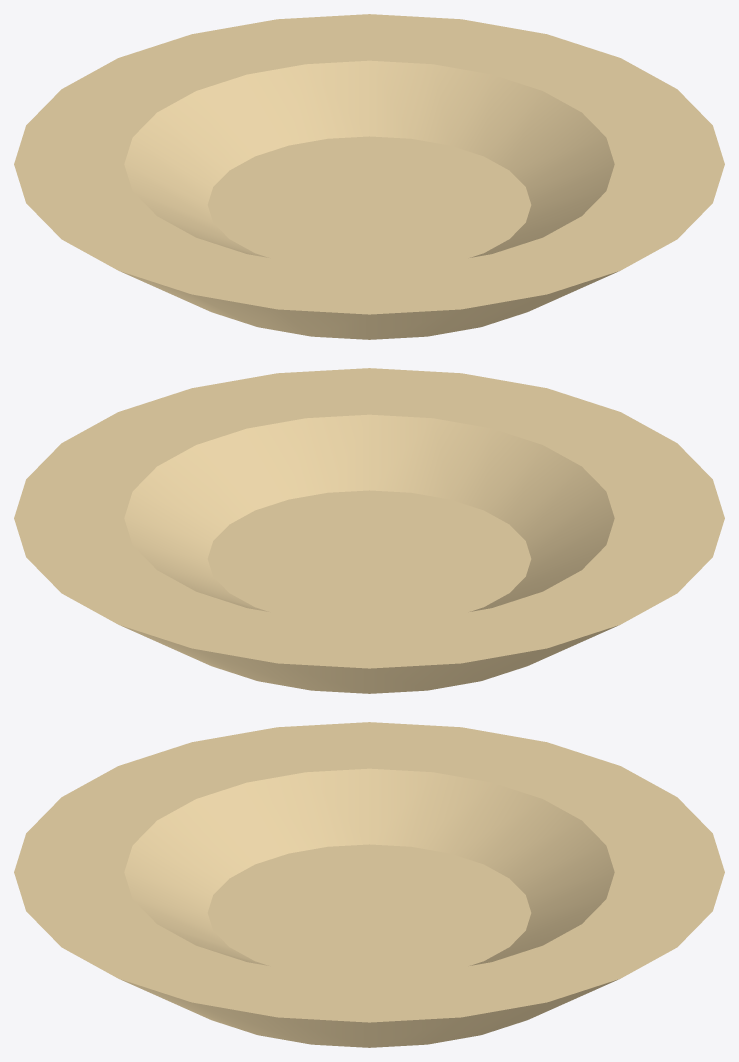
File: detailPlate.glb
3 renders of one model, top to bottom at view 1: azimuth 30°, elevation 25°; view 2: azimuth 150°, elevation 25°; view 3: azimuth 270°, elevation 25°, orthographic.
Parts seen in each view (by area): view 1: detailPlate(Clone); view 2: detailPlate(Clone); view 3: detailPlate(Clone).
Part boxes in pixels (<box>): detailPlate(Clone): <box>14,14,724,339</box>; detailPlate(Clone): <box>14,368,724,693</box>; detailPlate(Clone): <box>14,722,724,1047</box>.
Size of the model in its own units: 0.2131 by 0.0268 by 0.2131.
